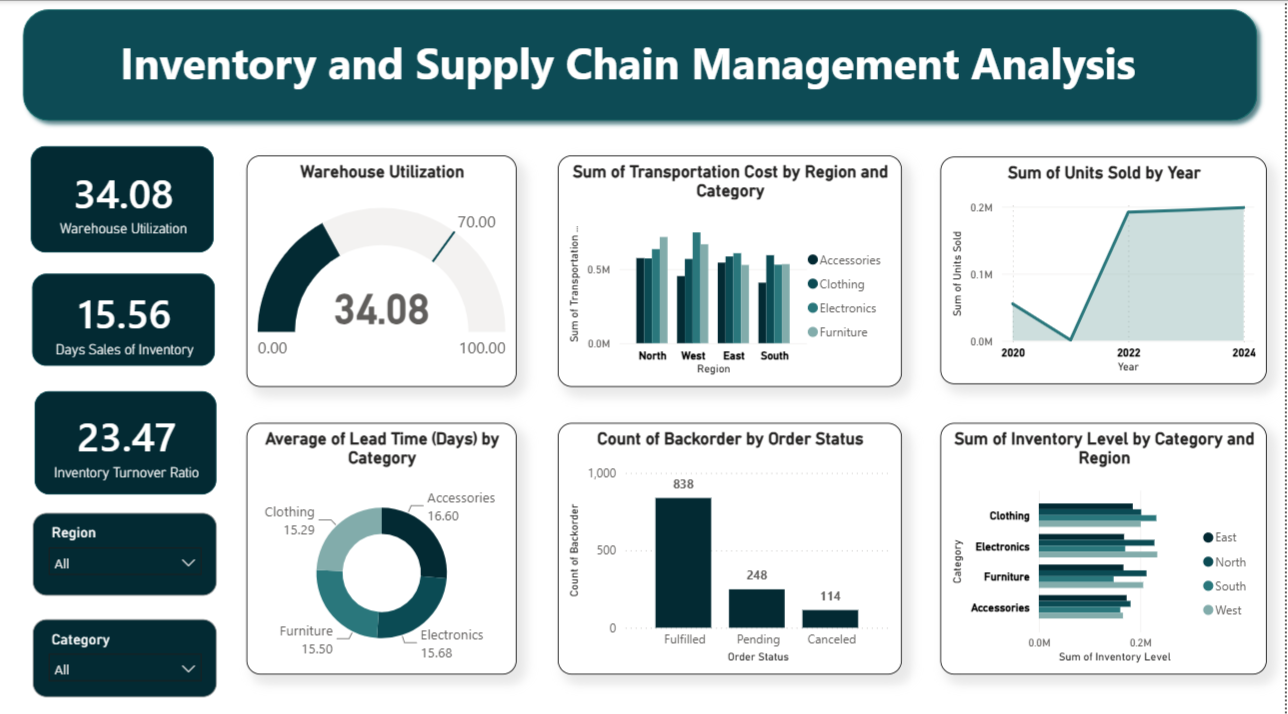

The page's visual inventory and layout, read from the dashboard file:
{"tool":"powerbi","page":{"name":"Page 1","canvas":[1280,720],"ordinal":0},"visuals":[{"type":"shape","box":[16.5,0,1246,129],"z":0},{"type":"textbox","box":[117.3,27.6,1106.4,75.9],"z":1000},{"type":"cardVisual","fields":{"Data":["Inventory & Supply Chain Dataset.Warehouse Utilization"]},"box":[16.6,128.3,216.6,140.7],"z":3000},{"type":"cardVisual","fields":{"Data":["Inventory & Supply Chain Dataset.Days Sales of Inventory"]},"box":[17.9,255.2,216.6,126.9],"z":4000},{"type":"cardVisual","fields":{"Data":["Inventory & Supply Chain Dataset.Inventory Turnover Ratio"]},"box":[19.3,372.5,215.2,138],"z":5000},{"type":"slicer","fields":{"Values":["Inventory & Supply Chain Dataset.Region"]},"box":[34.5,510.5,183.5,82.8],"z":6000},{"type":"slicer","fields":{"Values":["Inventory & Supply Chain Dataset.Category"]},"box":[34.5,615.3,183.5,77.3],"z":7000},{"type":"gauge","fields":{"Y":["Inventory & Supply Chain Dataset.Warehouse Utilization"]},"box":[247.5,154.3,268.7,230.1],"z":8000},{"type":"clusteredColumnChart","fields":{"Y":["Sum(Inventory & Supply Chain Dataset.Transportation Cost)"],"Category":["Inventory & Supply Chain Dataset.Region"],"Series":["Inventory & Supply Chain Dataset.Category"]},"box":[557.3,154.3,342.1,230.1],"z":9000},{"type":"lineChart","fields":{"Y":["Sum(Inventory & Supply Chain Dataset.Units Sold)"],"Category":["Inventory & Supply Chain Dataset.Date.Variation.Date Hierarchy.Year"]},"box":[937.9,155.5,324.7,226.4],"z":10000},{"type":"donutChart","fields":{"Y":["Avg(Inventory & Supply Chain Dataset.Lead Time (Days))"],"Category":["Inventory & Supply Chain Dataset.Category"]},"box":[247.5,420.5,268.7,250],"z":10001},{"type":"columnChart","fields":{"Y":["CountNonNull(Inventory & Supply Chain Dataset.Backorder)"],"Category":["Inventory & Supply Chain Dataset.Order Status"]},"box":[557,420,342,250],"z":10002},{"type":"clusteredBarChart","fields":{"Y":["Sum(Inventory & Supply Chain Dataset.Inventory Level)"],"Category":["Inventory & Supply Chain Dataset.Category"],"Series":["Inventory & Supply Chain Dataset.Region"]},"box":[938,420,325,250],"z":10003}]}

Visuals, with their boxes in screenshot pixels (x1, y1, x2, y2), scaled from the page's 1280x720 canvas onto the 1288x714 screenshot:
shape: pyautogui.locateOnScreen(17, 0, 1270, 128)
textbox: pyautogui.locateOnScreen(118, 27, 1231, 103)
cardVisual - Inventory & Supply Chain Dataset.Warehouse Utilization: pyautogui.locateOnScreen(17, 127, 235, 267)
cardVisual - Inventory & Supply Chain Dataset.Days Sales of Inventory: pyautogui.locateOnScreen(18, 253, 236, 379)
cardVisual - Inventory & Supply Chain Dataset.Inventory Turnover Ratio: pyautogui.locateOnScreen(19, 369, 236, 506)
slicer - Inventory & Supply Chain Dataset.Region: pyautogui.locateOnScreen(35, 506, 219, 588)
slicer - Inventory & Supply Chain Dataset.Category: pyautogui.locateOnScreen(35, 610, 219, 687)
gauge - Inventory & Supply Chain Dataset.Warehouse Utilization: pyautogui.locateOnScreen(249, 153, 519, 381)
clusteredColumnChart - Sum(Inventory & Supply Chain Dataset.Transportation Cost) x Inventory & Supply Chain Dataset.Region: pyautogui.locateOnScreen(561, 153, 905, 381)
lineChart - Sum(Inventory & Supply Chain Dataset.Units Sold) x Inventory & Supply Chain Dataset.Date.Variation.Date Hierarchy.Year: pyautogui.locateOnScreen(944, 154, 1270, 379)
donutChart - Avg(Inventory & Supply Chain Dataset.Lead Time (Days)) x Inventory & Supply Chain Dataset.Category: pyautogui.locateOnScreen(249, 417, 519, 665)
columnChart - CountNonNull(Inventory & Supply Chain Dataset.Backorder) x Inventory & Supply Chain Dataset.Order Status: pyautogui.locateOnScreen(560, 416, 905, 664)
clusteredBarChart - Sum(Inventory & Supply Chain Dataset.Inventory Level) x Inventory & Supply Chain Dataset.Category: pyautogui.locateOnScreen(944, 416, 1271, 664)
